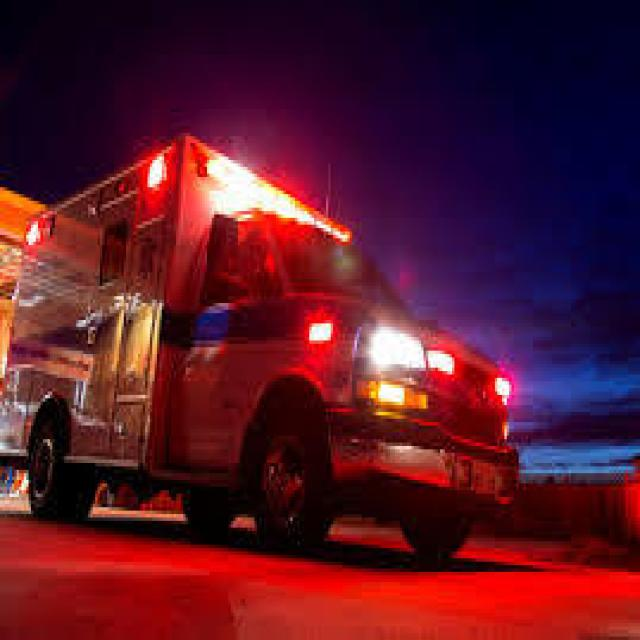ambulance: (137, 143, 524, 564), (24, 222, 54, 254)
